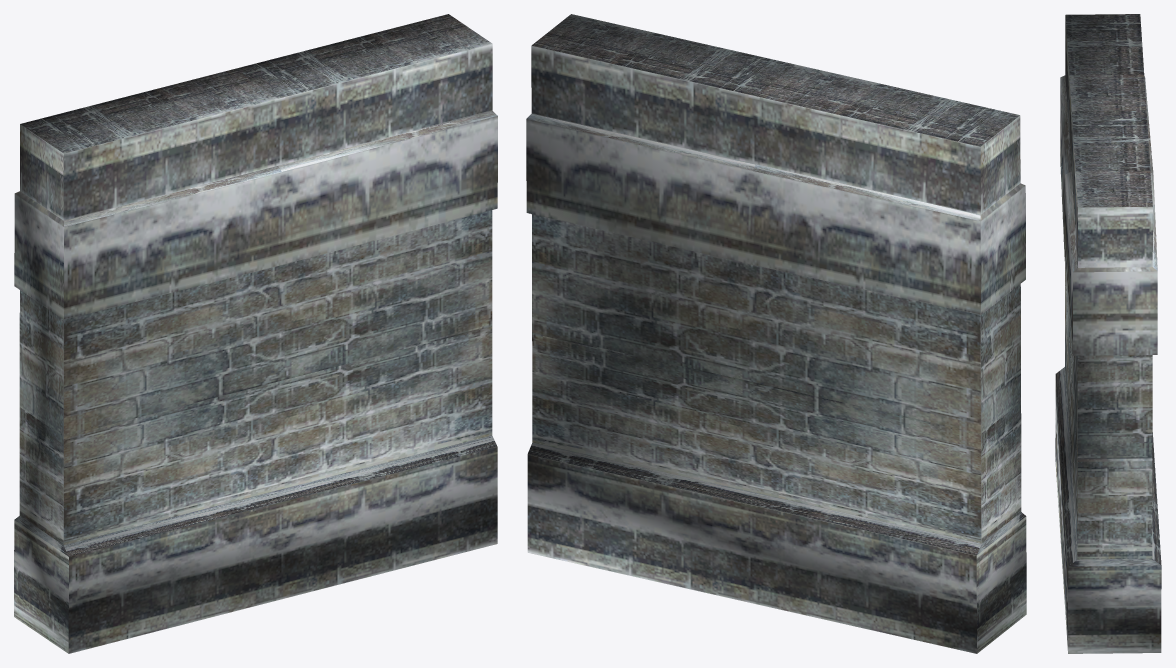
Rendered from S_Build_Snowland145.FBX.
3 renders of one model, left to right at view 1: azimuth 30°, elevation 25°; view 2: azimuth 150°, elevation 25°; view 3: azimuth 270°, elevation 25°, orthographic. The views are drawn at different scales.
Parts seen in each view (by area): view 1: S_Build_Snowland145; view 2: S_Build_Snowland145; view 3: S_Build_Snowland145.
Boxes of the visible parts, x1,y1,x2,y2 form: S_Build_Snowland145: (14, 14, 497, 653); S_Build_Snowland145: (526, 14, 1026, 653); S_Build_Snowland145: (1055, 14, 1161, 653).
Size of the model in its own units: 897 by 206 by 962.
